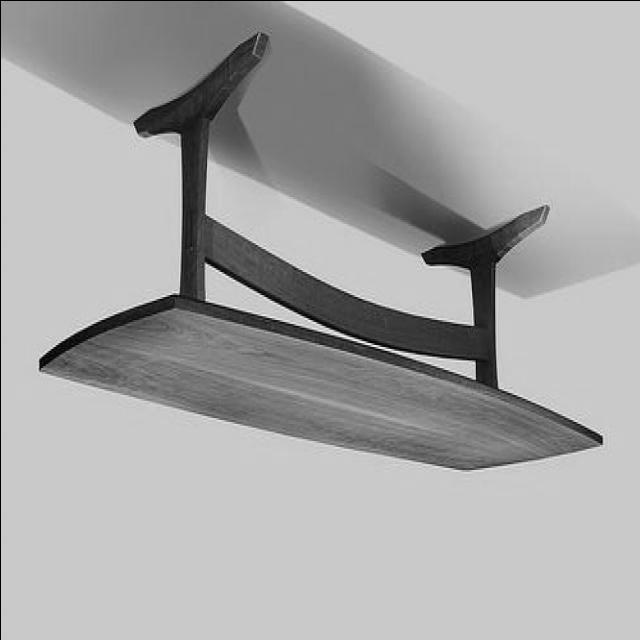table: (38, 31, 602, 478)
